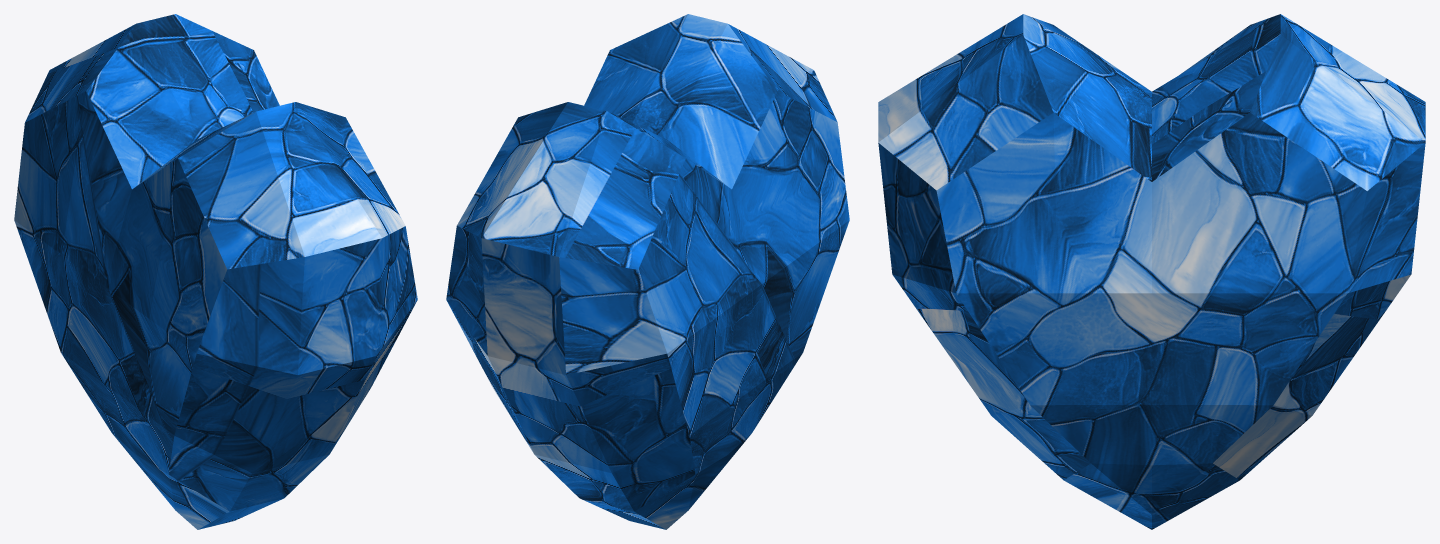
Rendered from gemstone1Blue.glb.
3 renders of one model, left to right at view 1: azimuth 30°, elevation 25°; view 2: azimuth 150°, elevation 25°; view 3: azimuth 270°, elevation 25°, orthographic. The views are drawn at different scales.
Visible parts, largest first — view 1: geamstoneHeart; view 2: geamstoneHeart; view 3: geamstoneHeart.
Boxes of the visible parts, x1,y1,x2,y2 form: geamstoneHeart: (14, 14, 417, 529); geamstoneHeart: (446, 14, 849, 529); geamstoneHeart: (878, 14, 1425, 529).
Bounding box in the file's own units: 0.5 × 1 × 1.
1 material, 1 textured.
